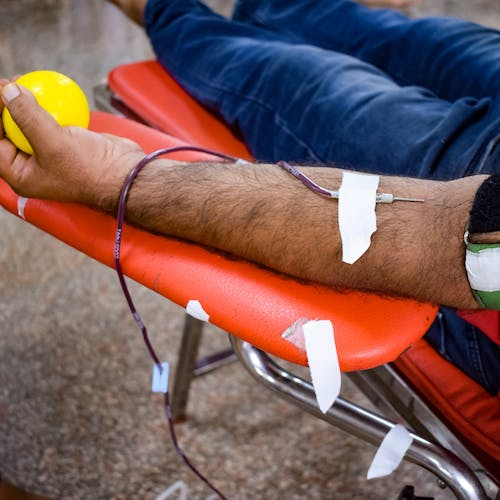blood: (113, 143, 334, 500)
